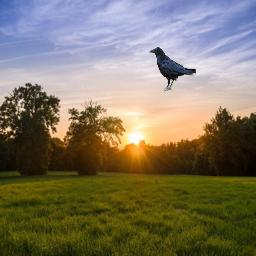Crow: (148, 46, 196, 92)
